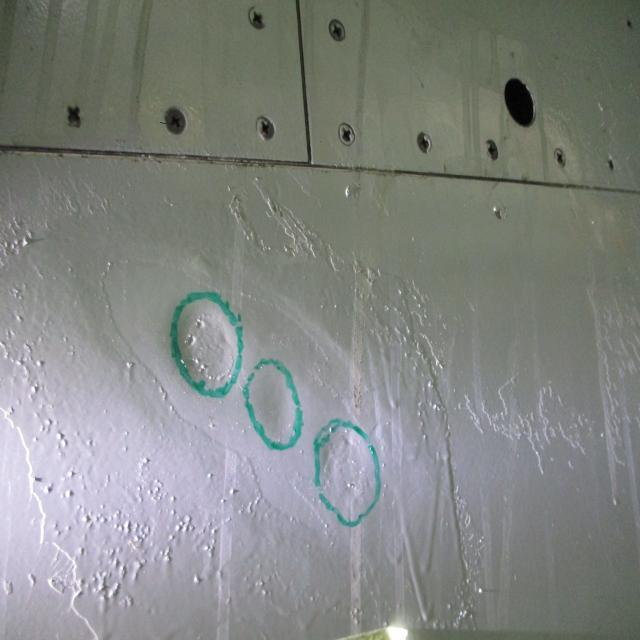crack: (157, 116, 169, 128)
